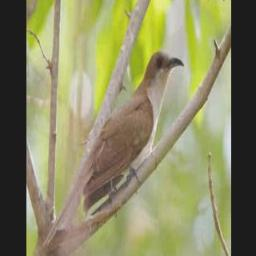Cuckoo: (83, 50, 187, 217)
